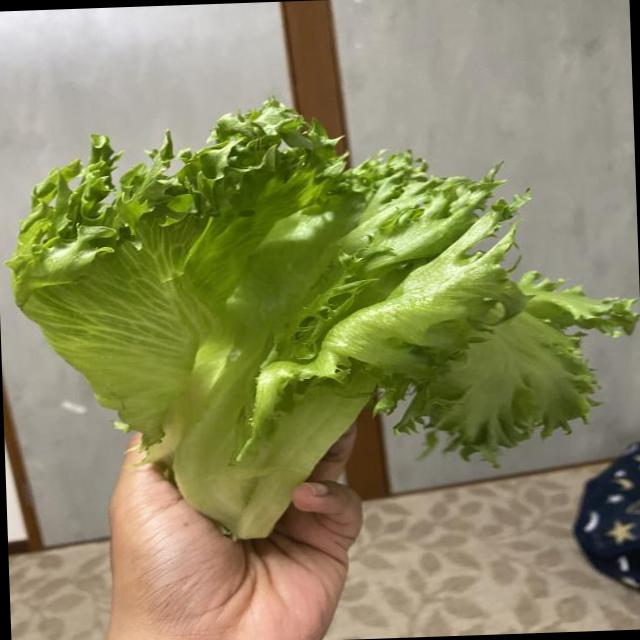Lettuce-Ready-to-Harvest: (8, 99, 638, 537)
